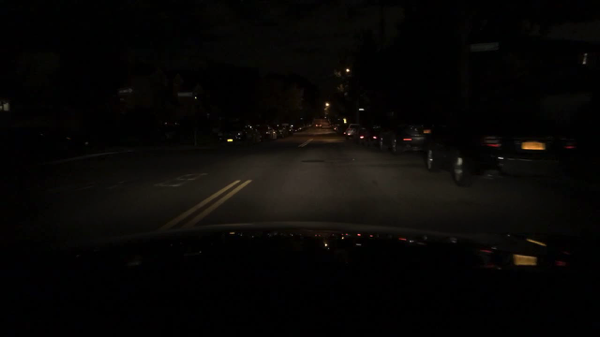car: (424, 89, 584, 184), (381, 105, 440, 156), (216, 122, 256, 148), (259, 124, 278, 141), (370, 127, 387, 146), (358, 126, 371, 143), (345, 123, 359, 137), (279, 124, 294, 136), (272, 125, 284, 136), (295, 121, 306, 131), (331, 124, 342, 133), (286, 121, 296, 130), (302, 120, 309, 127), (315, 122, 323, 128), (308, 121, 314, 126)
traffic sign: (470, 43, 499, 51), (118, 88, 132, 95), (176, 92, 194, 97), (358, 107, 365, 112)
